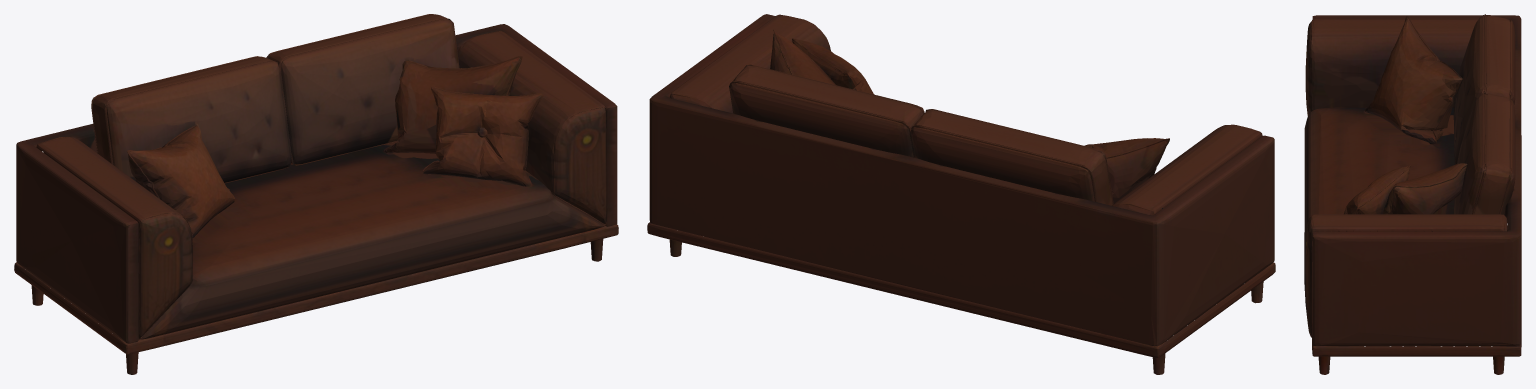
The model's file is edited_mesh.glb.
The picture shows the model from 3 angles, left to right: view 1: azimuth 30°, elevation 25°; view 2: azimuth 150°, elevation 25°; view 3: azimuth 270°, elevation 25°; orthographic projection. The views are drawn at different scales.
Visible parts, largest first — view 1: solid_001_wire; view 2: solid_001_wire; view 3: solid_001_wire.
Part boxes in pixels (<box>): solid_001_wire: <box>14,14,618,374</box>; solid_001_wire: <box>647,14,1275,374</box>; solid_001_wire: <box>1304,14,1521,374</box>.
Size of the model in its own units: 2 by 0.7464 by 0.8192.
1 material, 1 textured.
